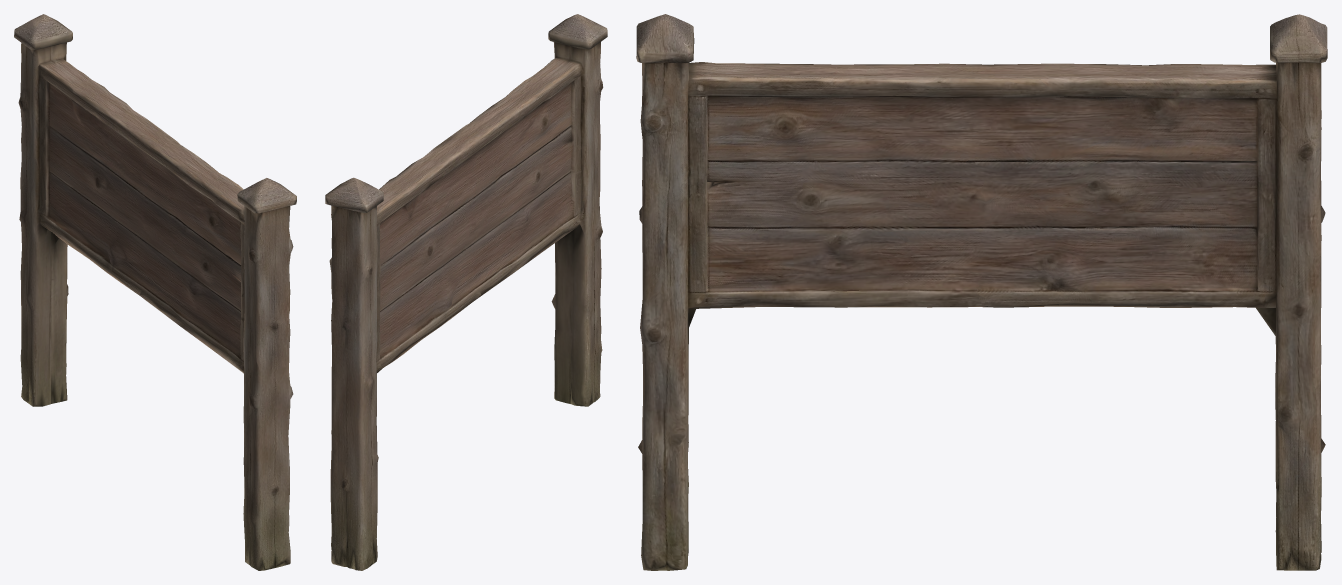
Rendered from signpost.glb.
3 views of the same model, side by side, from view 1: azimuth 30°, elevation 25°; view 2: azimuth 150°, elevation 25°; view 3: azimuth 270°, elevation 25° (orthographic). The views are drawn at different scales.
Parts seen in each view (by area): view 1: tripo_node_bad00361-5103-4d94-a7cd-0d251884cb6b; view 2: tripo_node_bad00361-5103-4d94-a7cd-0d251884cb6b; view 3: tripo_node_bad00361-5103-4d94-a7cd-0d251884cb6b.
Boxes of the visible parts, <box> form: tripo_node_bad00361-5103-4d94-a7cd-0d251884cb6b: <box>14,14,296,570</box>; tripo_node_bad00361-5103-4d94-a7cd-0d251884cb6b: <box>325,14,607,570</box>; tripo_node_bad00361-5103-4d94-a7cd-0d251884cb6b: <box>636,14,1327,570</box>.
Size of the model in its own units: 0.3153 by 2.7 by 3.1.
Materials: 1 (1 with a texture image).
